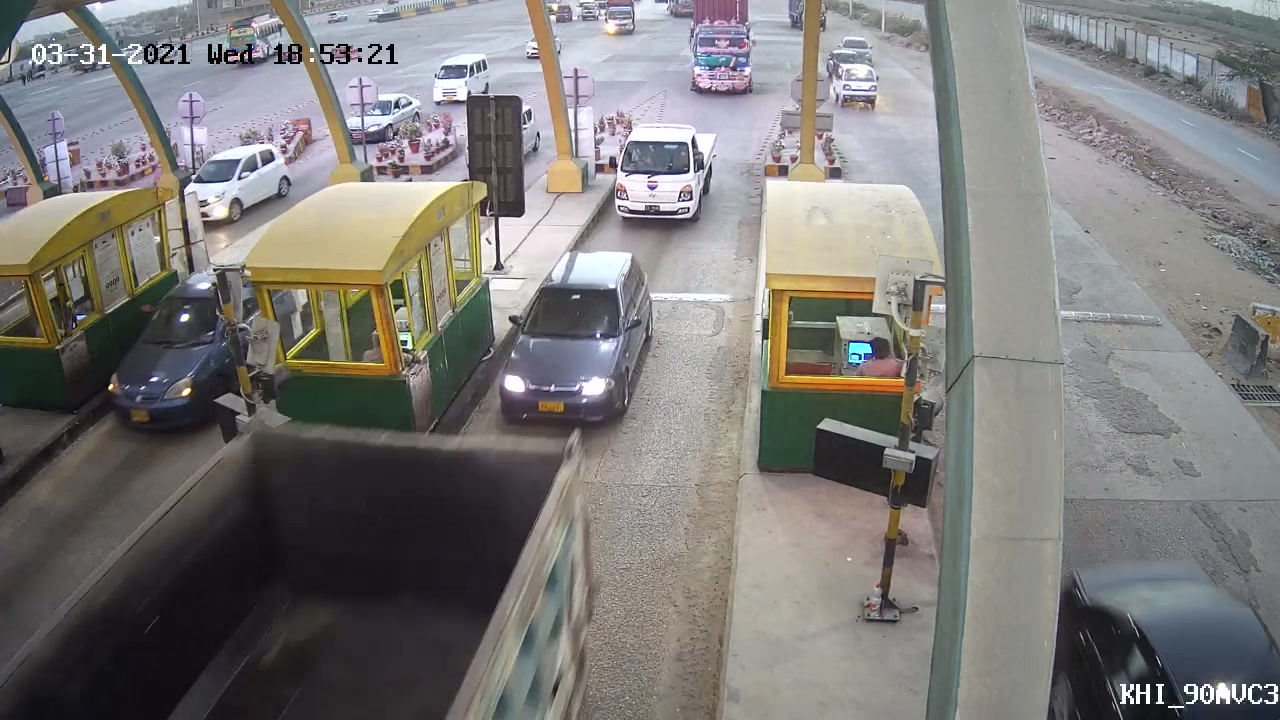F1: (484, 245, 663, 425), (609, 113, 719, 224)
